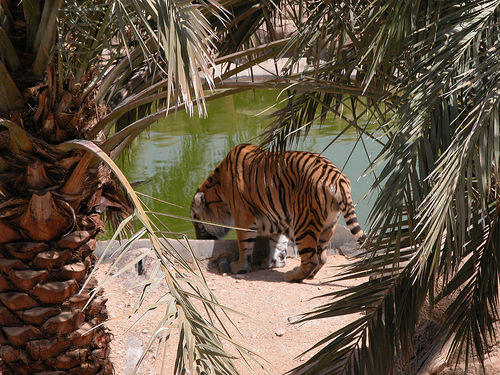Tigre: (184, 150, 369, 279)
